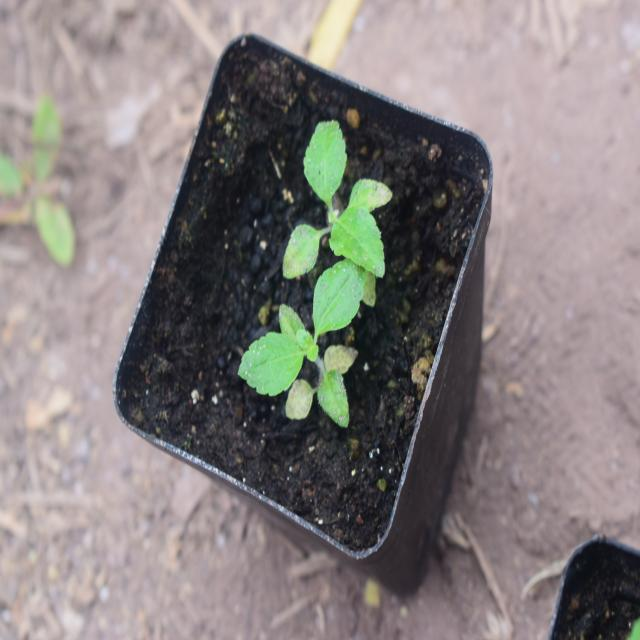billygoat_weed: (237, 268, 388, 439), (284, 120, 394, 300)
